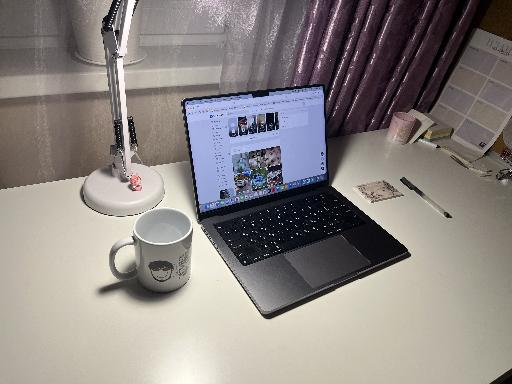vk: (187, 100, 335, 195)
